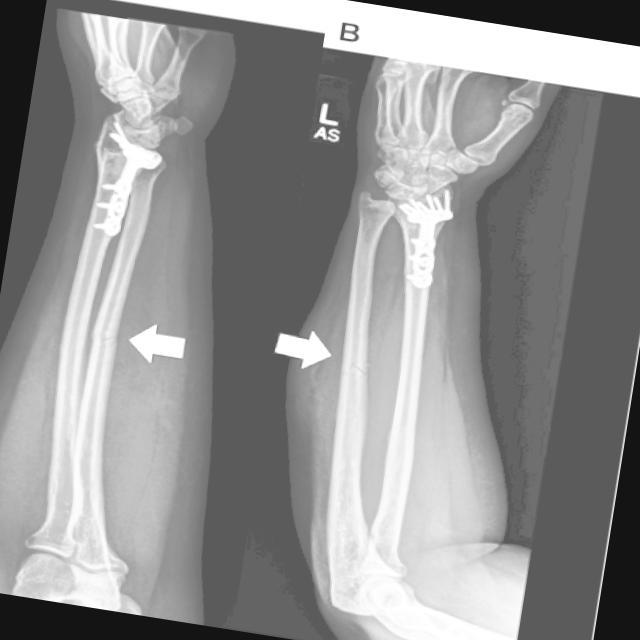Impact Fracture: (341, 349, 368, 381), (92, 324, 116, 350)
